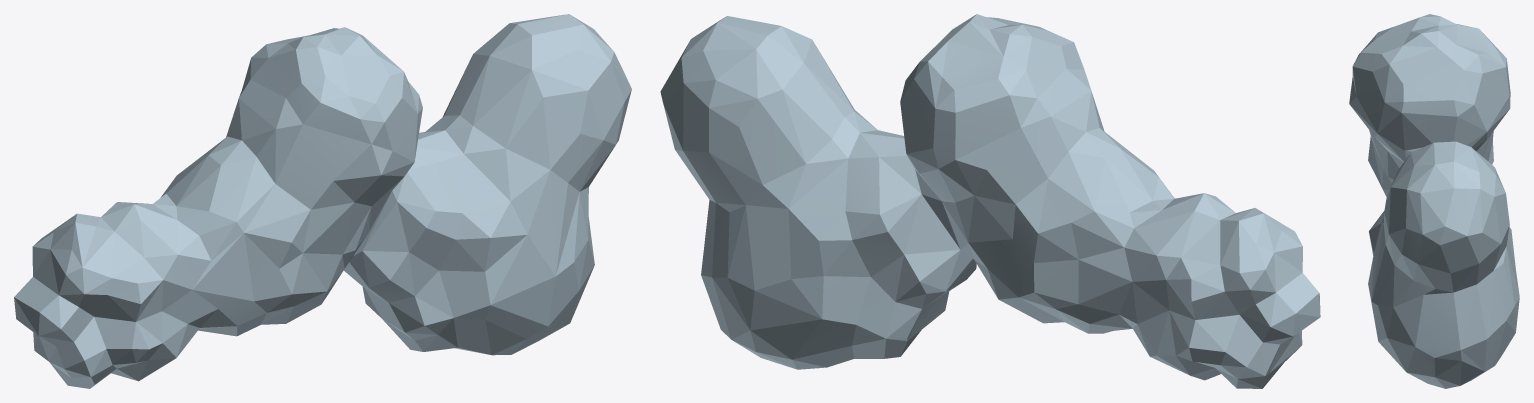
The model's file is stylize_cloud_5.fbx.
The picture shows the model from 3 angles, left to right: view 1: azimuth 30°, elevation 25°; view 2: azimuth 150°, elevation 25°; view 3: azimuth 270°, elevation 25°; orthographic projection. The views are drawn at different scales.
Visible parts, largest first — view 1: cloud_85; view 2: cloud_85; view 3: cloud_85.
Part boxes in pixels (left/top/right/bottom): cloud_85: left=14, top=14, right=631, bottom=388; cloud_85: left=660, top=14, right=1320, bottom=388; cloud_85: left=1349, top=14, right=1519, bottom=388.
Size of the model in its own units: 600 by 344 by 185.
